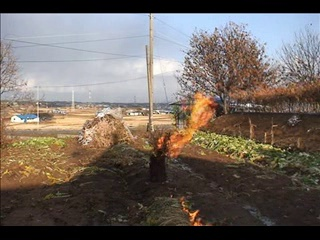fire: (155, 91, 214, 158), (177, 194, 214, 226)
